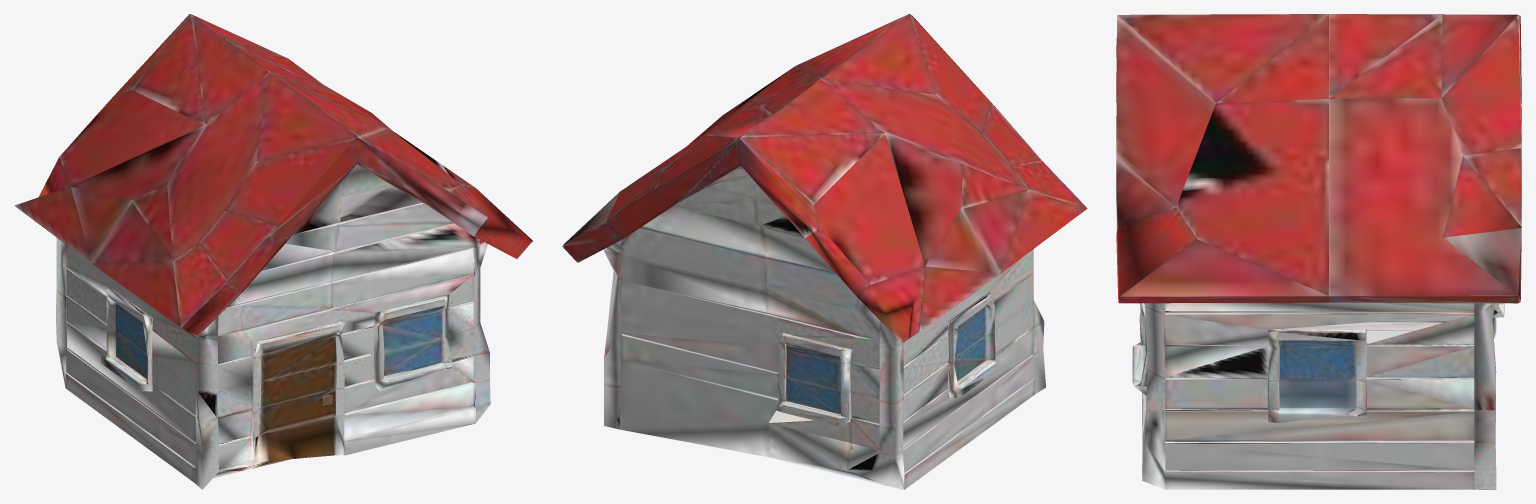
Rendered from 01-small-house-red-roof.glb.
3 views of the same model, side by side, from view 1: azimuth 30°, elevation 25°; view 2: azimuth 150°, elevation 25°; view 3: azimuth 270°, elevation 25° (orthographic). The views are drawn at different scales.
Parts seen in each view (by area): view 1: geometry_0; view 2: geometry_0; view 3: geometry_0.
Boxes of the visible parts, x1=… form: geometry_0: x1=14, y1=14, x2=532, y2=489; geometry_0: x1=562, y1=14, x2=1087, y2=489; geometry_0: x1=1116, y1=14, x2=1521, y2=489.
Bounding box in the file's own units: 0.9473 × 0.8345 × 0.7832.
1 material, 1 textured.
